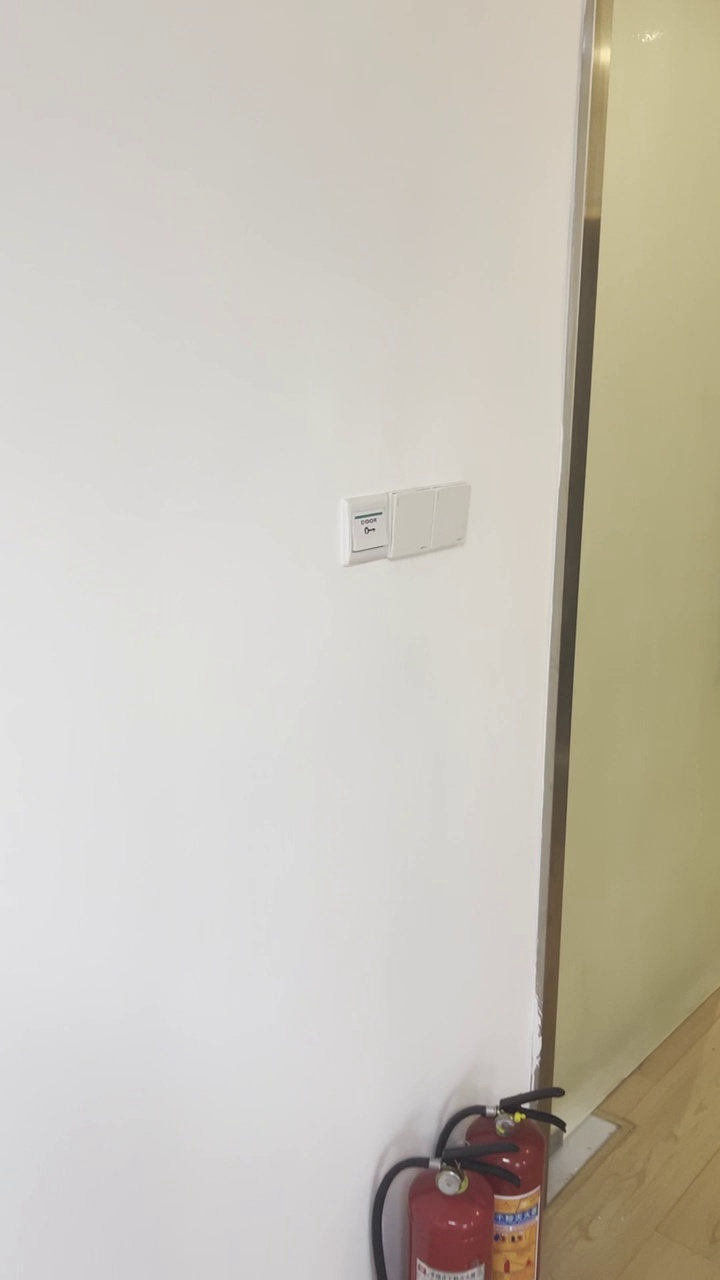button: (386, 486, 439, 560), (430, 479, 474, 552)
